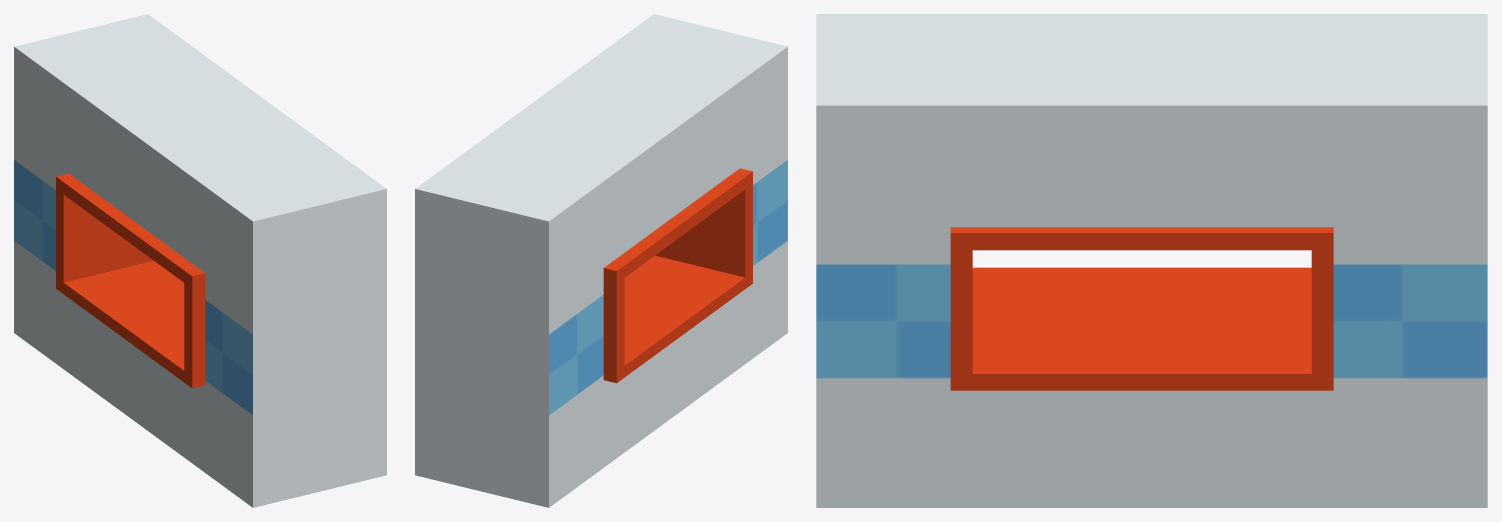
The model's file is tuong + cua so.FBX.
The picture shows the model from 3 angles, left to right: view 1: azimuth 30°, elevation 25°; view 2: azimuth 150°, elevation 25°; view 3: azimuth 270°, elevation 25°; orthographic projection. The views are drawn at different scales.
Visible parts, largest first — view 1: Box1119; view 2: Box1119; view 3: Box1119.
Part boxes in pixels (x1,y1,x2,y2): Box1119: (14,14,386,507); Box1119: (415,14,787,507); Box1119: (816,14,1487,507).
Bounding box in the file's own units: 1.78 × 3.15 × 4.76.
